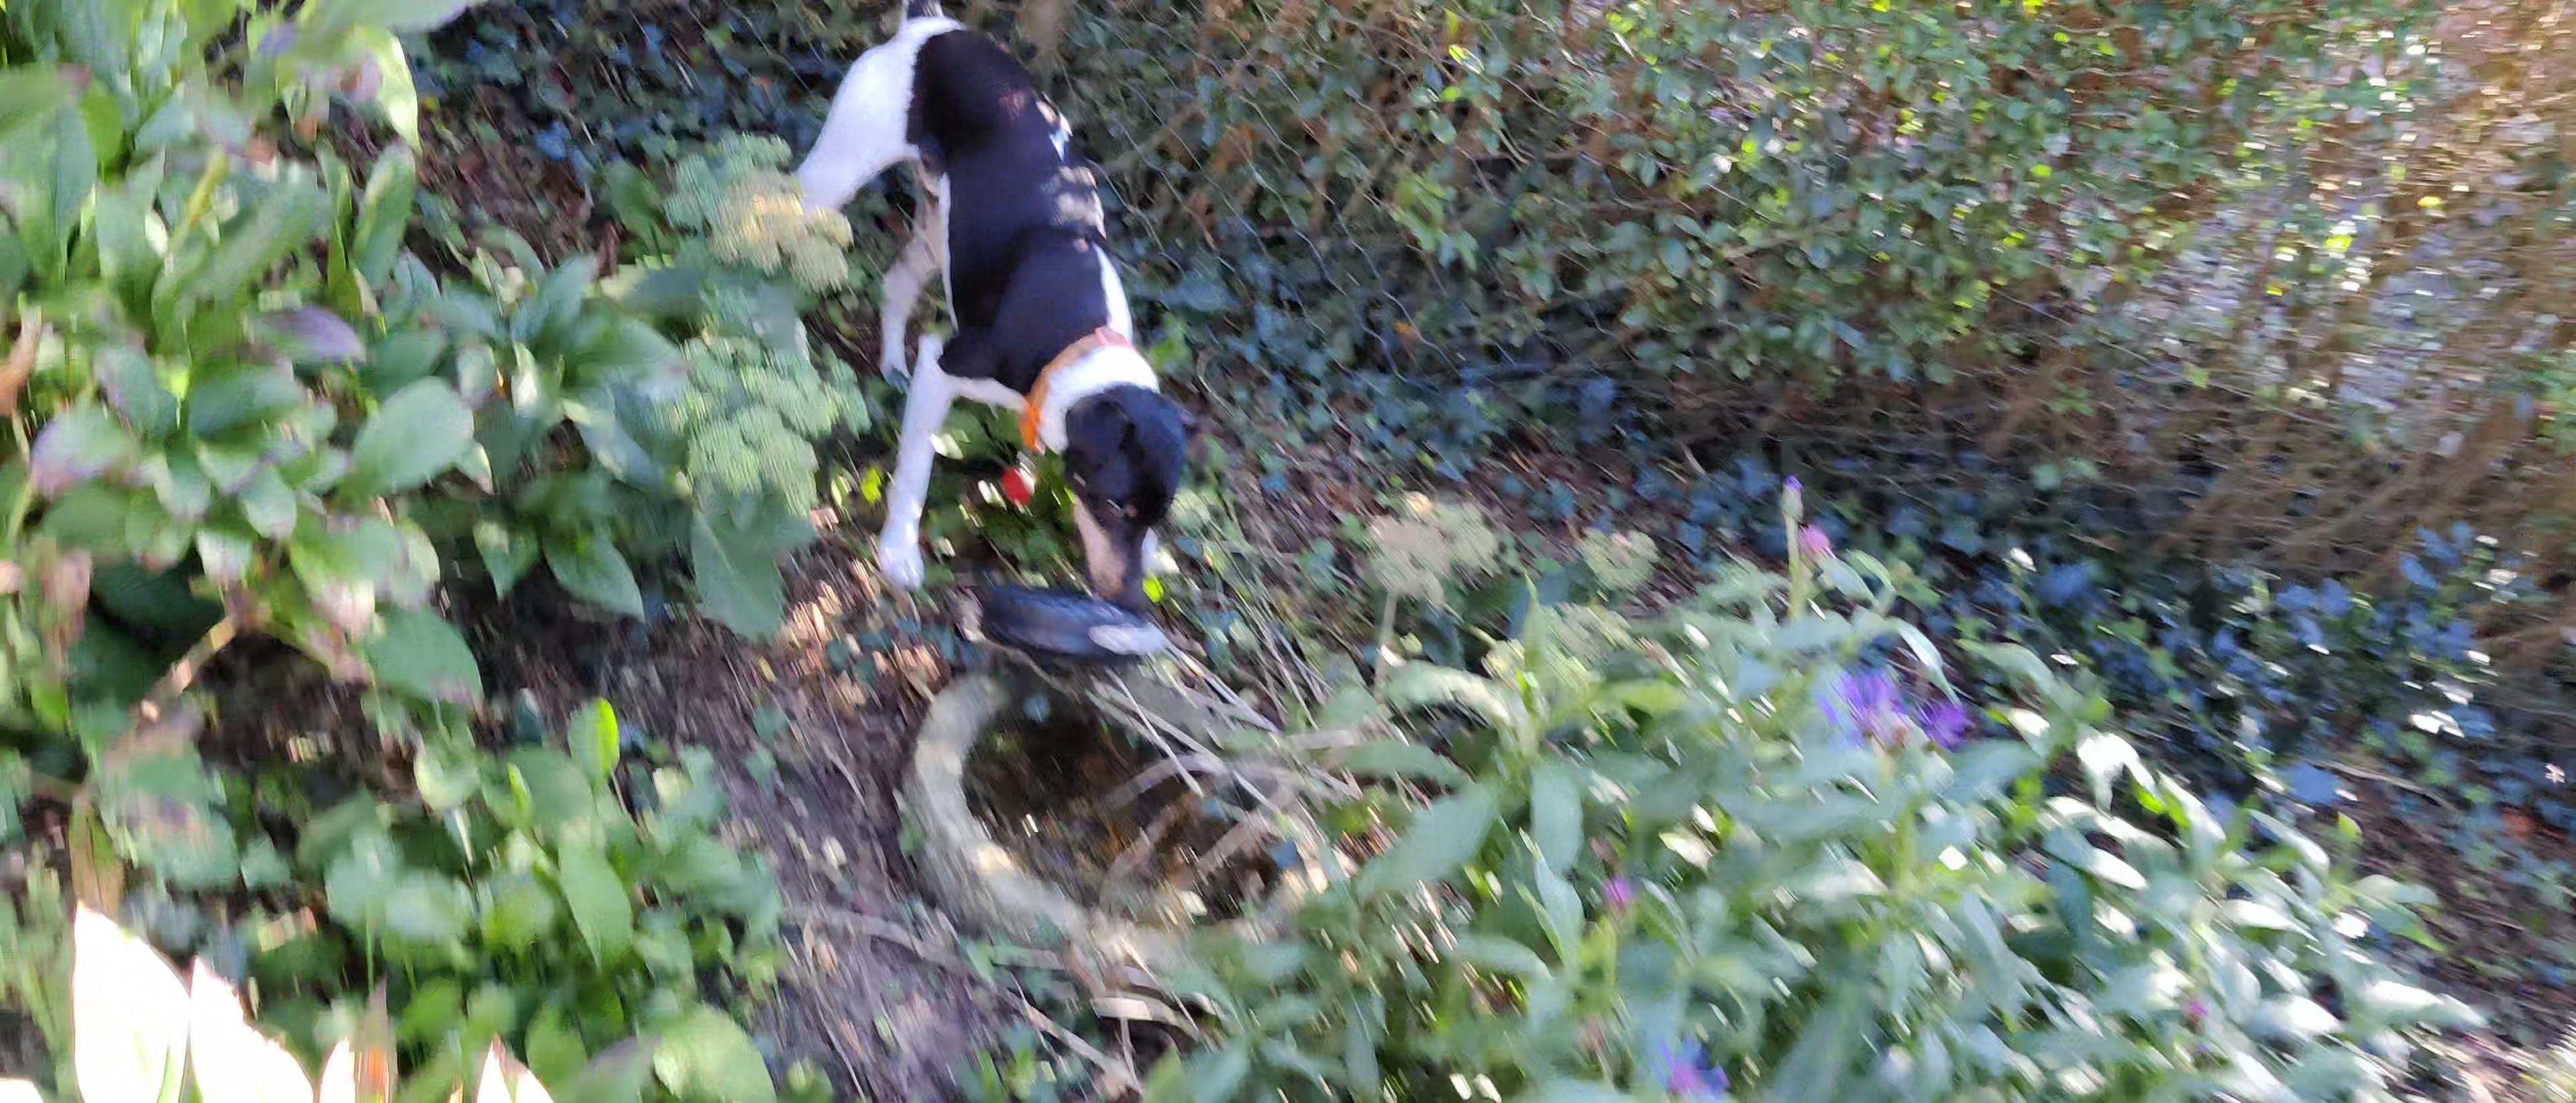Dog: (780, 0, 1189, 616)
